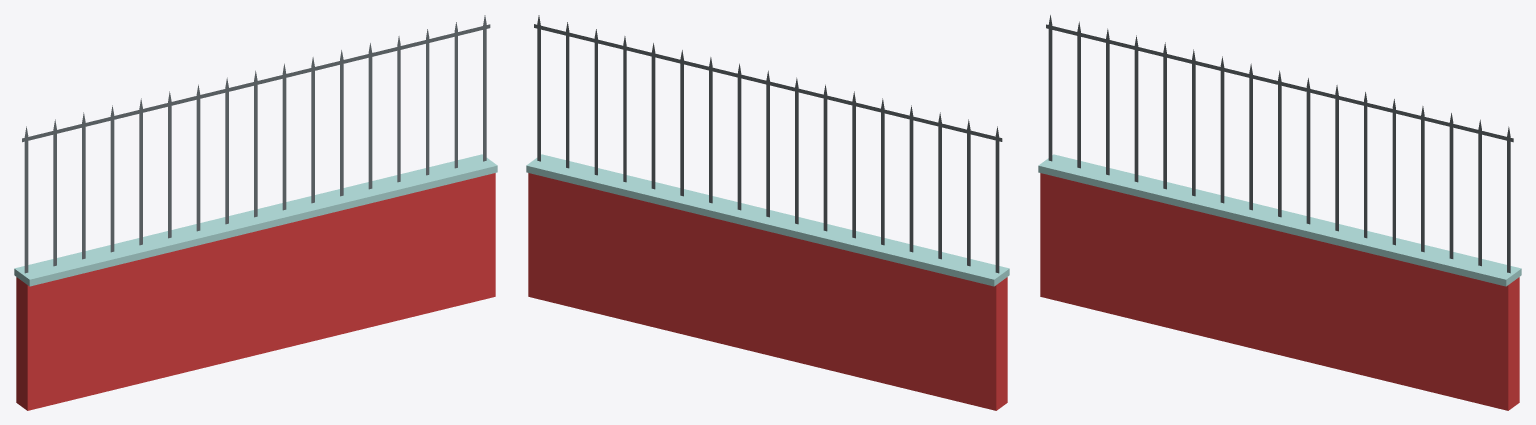
The model's file is WallWithFence.fbx.
3 views of the same model, side by side, from view 1: azimuth 30°, elevation 25°; view 2: azimuth 150°, elevation 25°; view 3: azimuth 330°, elevation 25° (orthographic).
Parts seen in each view (by area): view 1: WallWithFence; view 2: WallWithFence; view 3: WallWithFence.
Part boxes in pixels (x1,y1,x2,y2): WallWithFence: (14,15,497,410); WallWithFence: (526,15,1009,410); WallWithFence: (1038,15,1521,410).
Size of the model in its own units: 350 by 200 by 20.
